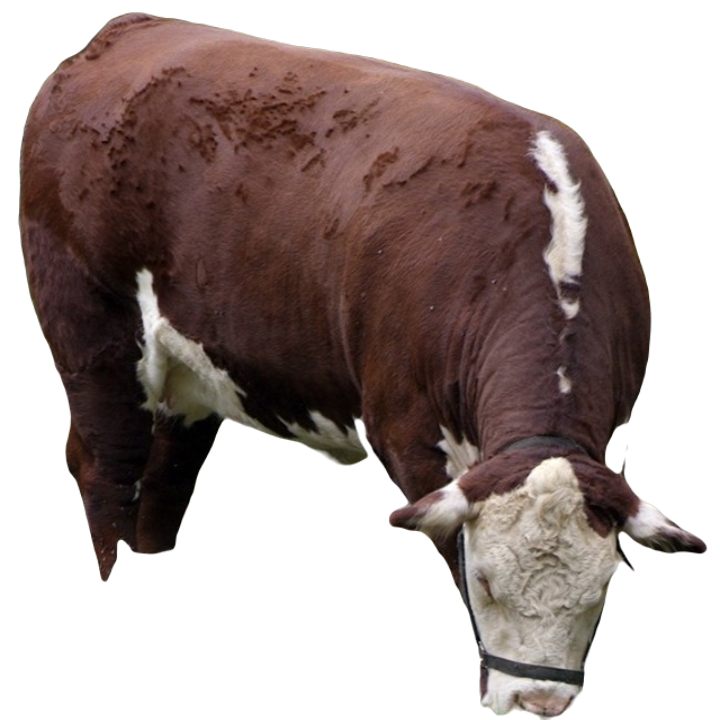Cow: (13, 9, 706, 717)
